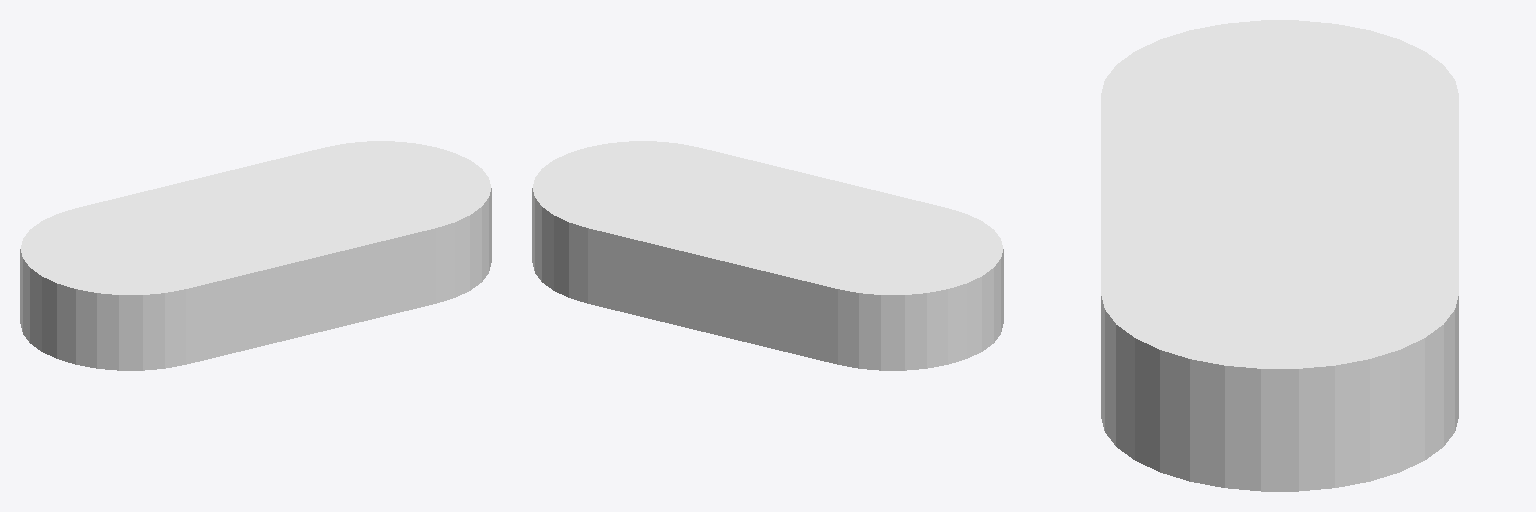
The robot description file, URDF, robot "three_link":
<robot
  name="three_link">
  <link
    name="base_link">
    <inertial>
      <origin
        xyz="-0.017301 0 -0.005"
        rpy="0 0 0" />
      <mass
        value="0.014671" />
      <inertia
        ixx="8.9917E-07"
        ixy="1.5212E-22"
        ixz="2.5849E-23"
        iyy="3.9977E-06"
        iyz="-2.2058E-24"
        izz="4.6523E-06" />
    </inertial>
    <visual>
      <origin
        xyz="0 0 0"
        rpy="0 0 0" />
      <geometry>
        <mesh
          filename="package://three_link/meshes/base_link.STL" />
      </geometry>
      <material
        name="">
        <color
          rgba="1 1 1 1" />
      </material>
    </visual>
    <collision>
      <origin
        xyz="0 0 0"
        rpy="0 0 0" />
      <geometry>
        <mesh
          filename="package://three_link/meshes/base_link.STL" />
      </geometry>
    </collision>
  </link>
  <link
    name="link1">
    <inertial>
      <origin
        xyz="-0.017301 0 -0.005"
        rpy="0 0 0" />
      <mass
        value="0.014671" />
      <inertia
        ixx="8.9917E-07"
        ixy="1.5212E-22"
        ixz="2.5849E-23"
        iyy="3.9977E-06"
        iyz="-2.8595E-24"
        izz="4.6523E-06" />
    </inertial>
    <visual>
      <origin
        xyz="0 0 0"
        rpy="0 0 0" />
      <geometry>
        <mesh
          filename="package://three_link/meshes/link1.STL" />
      </geometry>
      <material
        name="">
        <color
          rgba="1 1 1 1" />
      </material>
    </visual>
    <collision>
      <origin
        xyz="0 0 0"
        rpy="0 0 0" />
      <geometry>
        <mesh
          filename="package://three_link/meshes/link1.STL" />
      </geometry>
    </collision>
  </link>
  <joint
    name="joint1"
    type="revolute">
    <origin
      xyz="-0.034603 0 0.01"
      rpy="0 0 0" />
    <parent
      link="base_link" />
    <child
      link="link1" />
    <axis
      xyz="0 0 -1" />
    <limit
      lower="-1.57"
      upper="1.57"
      effort="0"
      velocity="0" />
  </joint>
  <link
    name="link2">
    <inertial>
      <origin
        xyz="-0.017301 -6.9389E-18 -0.005"
        rpy="0 0 0" />
      <mass
        value="0.014671" />
      <inertia
        ixx="8.9917E-07"
        ixy="1.5212E-22"
        ixz="2.5849E-23"
        iyy="3.9977E-06"
        iyz="-2.7123E-23"
        izz="4.6523E-06" />
    </inertial>
    <visual>
      <origin
        xyz="0 0 0"
        rpy="0 0 0" />
      <geometry>
        <mesh
          filename="package://three_link/meshes/link2.STL" />
      </geometry>
      <material
        name="">
        <color
          rgba="1 1 1 1" />
      </material>
    </visual>
    <collision>
      <origin
        xyz="0 0 0"
        rpy="0 0 0" />
      <geometry>
        <mesh
          filename="package://three_link/meshes/link2.STL" />
      </geometry>
    </collision>
  </link>
  <joint
    name="joint2"
    type="revolute">
    <origin
      xyz="-0.034603 0 0.01"
      rpy="0 0 0" />
    <parent
      link="link1" />
    <child
      link="link2" />
    <axis
      xyz="0 0 -1" />
    <limit
      lower="-1.57"
      upper="1.57"
      effort="0"
      velocity="0" />
  </joint>
</robot>

--- Render facts (derived) ---
3 views of the same robot in one strip: view 1: azimuth 30°, elevation 25°; view 2: azimuth 150°, elevation 25°; view 3: azimuth 270°, elevation 25° (orthographic).
Model three_link with 3 links and 2 joints (2 revolute), rooted at base_link, posed every joint at zero.
Links seen in each view (by area): view 1: link2; view 2: link2; view 3: link2.
Boxes of the visible links, x1=… form: link2: x1=20, y1=141, x2=491, y2=370; link2: x1=532, y1=141, x2=1003, y2=370; link2: x1=1101, y1=20, x2=1458, y2=491.
Bounding box of the posed robot: 0.0609 × 0.0265 × 0.01 m (x, y, z).
Meshes: 3 distinct files referenced, 1 mesh visuals loaded (1 binary STL); not drawn: 2 (reference not matched to a file when rendering).